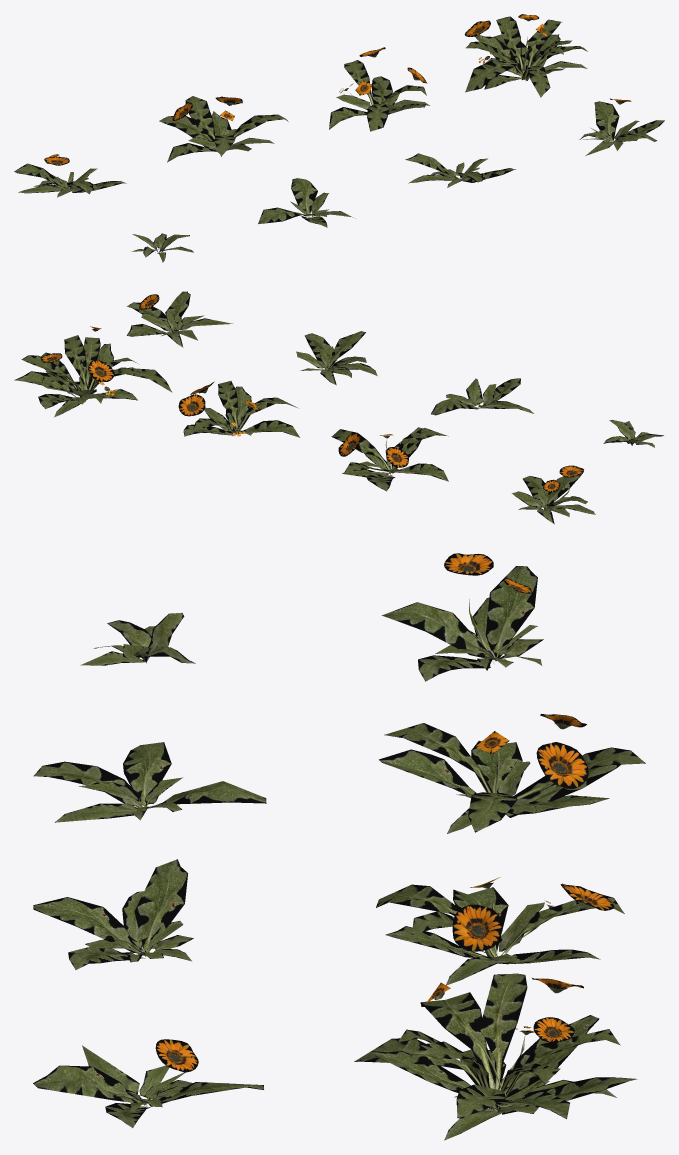
Rendered from flower_b.glb.
3 renders of one model, top to bottom at view 1: azimuth 30°, elevation 25°; view 2: azimuth 150°, elevation 25°; view 3: azimuth 270°, elevation 25°, orthographic. The views are drawn at different scales.
Visible parts, largest first — view 1: flower_gazania_h_LOD0, flower_gazania_f_LOD0, flower_gazania_g_LOD0, flower_gazania_d_LOD0, flower_gazania_b_LOD0, flower_gazania_e_LOD0, flower_gazania_c_LOD0, flower_gazania_a_LOD0; view 2: flower_gazania_h_LOD0, flower_gazania_g_LOD0, flower_gazania_f_LOD0, flower_gazania_d_LOD0, flower_gazania_e_LOD0, flower_gazania_c_LOD0, flower_gazania_b_LOD0, flower_gazania_a_LOD0; view 3: flower_gazania_h_LOD0, flower_gazania_f_LOD0, flower_gazania_g_LOD0, flower_gazania_e_LOD0, flower_gazania_c_LOD0, flower_gazania_b_LOD0, flower_gazania_d_LOD0, flower_gazania_a_LOD0.
Part boxes in pixels (left/top/right/bottom): flower_gazania_h_LOD0: left=464, top=14, right=587, bottom=97; flower_gazania_f_LOD0: left=159, top=96, right=288, bottom=162; flower_gazania_g_LOD0: left=329, top=47, right=429, bottom=131; flower_gazania_d_LOD0: left=579, top=98, right=664, bottom=155; flower_gazania_b_LOD0: left=258, top=178, right=355, bottom=227; flower_gazania_e_LOD0: left=14, top=154, right=126, bottom=197; flower_gazania_c_LOD0: left=405, top=153, right=516, bottom=187; flower_gazania_a_LOD0: left=132, top=233, right=193, bottom=262; flower_gazania_h_LOD0: left=14, top=326, right=171, bottom=417; flower_gazania_g_LOD0: left=178, top=381, right=299, bottom=437; flower_gazania_f_LOD0: left=331, top=427, right=448, bottom=491; flower_gazania_d_LOD0: left=127, top=291, right=232, bottom=347; flower_gazania_e_LOD0: left=512, top=465, right=595, bottom=524; flower_gazania_c_LOD0: left=296, top=331, right=377, bottom=385; flower_gazania_b_LOD0: left=431, top=378, right=533, bottom=415; flower_gazania_a_LOD0: left=603, top=420, right=663, bottom=447; flower_gazania_h_LOD0: left=354, top=973, right=637, bottom=1140; flower_gazania_f_LOD0: left=379, top=714, right=645, bottom=833; flower_gazania_g_LOD0: left=376, top=877, right=624, bottom=985; flower_gazania_e_LOD0: left=382, top=553, right=543, bottom=681; flower_gazania_c_LOD0: left=33, top=859, right=193, bottom=969; flower_gazania_b_LOD0: left=33, top=742, right=266, bottom=822; flower_gazania_d_LOD0: left=33, top=1039, right=263, bottom=1127; flower_gazania_a_LOD0: left=80, top=613, right=195, bottom=665.
Size of the model in its own units: 1.48 by 0.1637 by 0.7015.
1 material, 1 textured.
